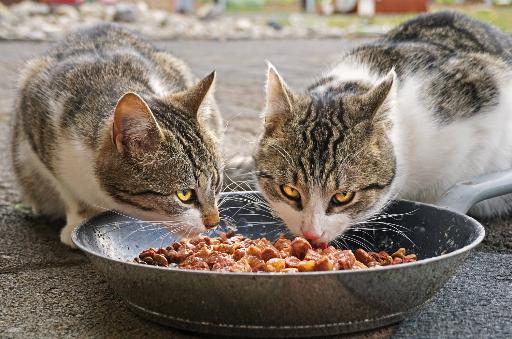cat_eating: (11, 12, 512, 336)
